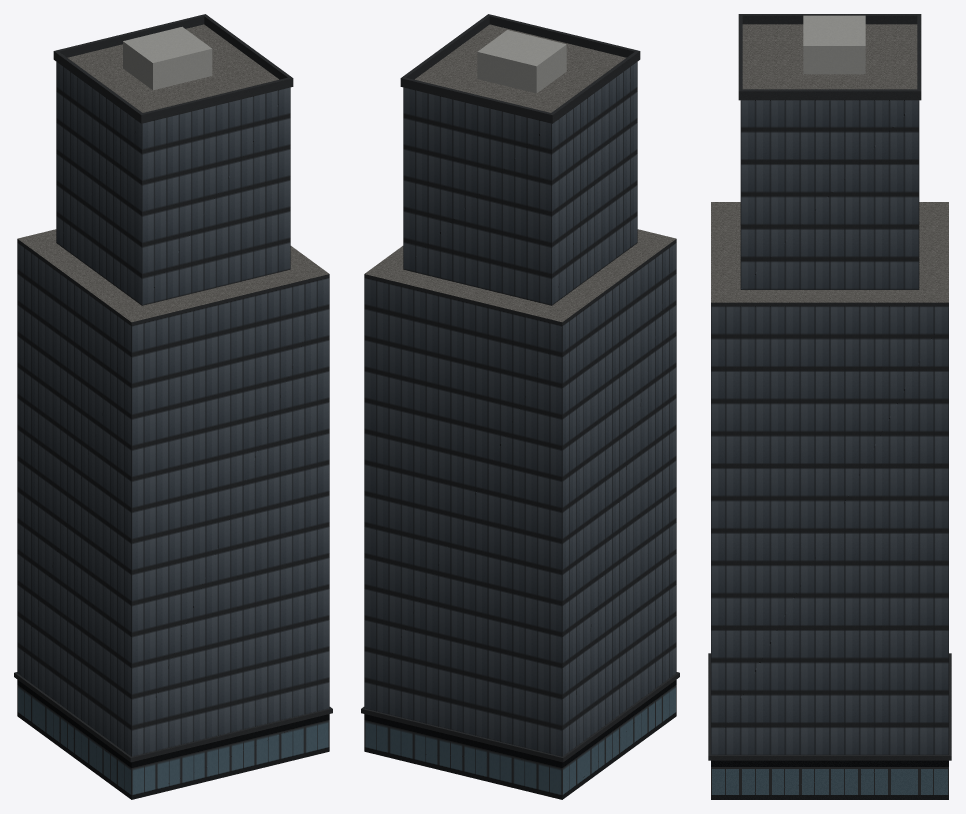
The model's file is glass_dark_tower.glb.
The picture shows the model from 3 angles, left to right: view 1: azimuth 30°, elevation 25°; view 2: azimuth 150°, elevation 25°; view 3: azimuth 270°, elevation 25°; orthographic projection. The views are drawn at different scales.
Parts seen in each view (by area): view 1: glass_dark_tower; view 2: glass_dark_tower; view 3: glass_dark_tower.
Boxes of the visible parts, x1,y1,x2,y2 form: glass_dark_tower: [14, 14, 332, 799]; glass_dark_tower: [361, 14, 679, 799]; glass_dark_tower: [708, 14, 951, 799].
Bounding box in the file's own units: 24.5 × 79.7 × 24.5.
Materials: 5 (5 with a texture image).
